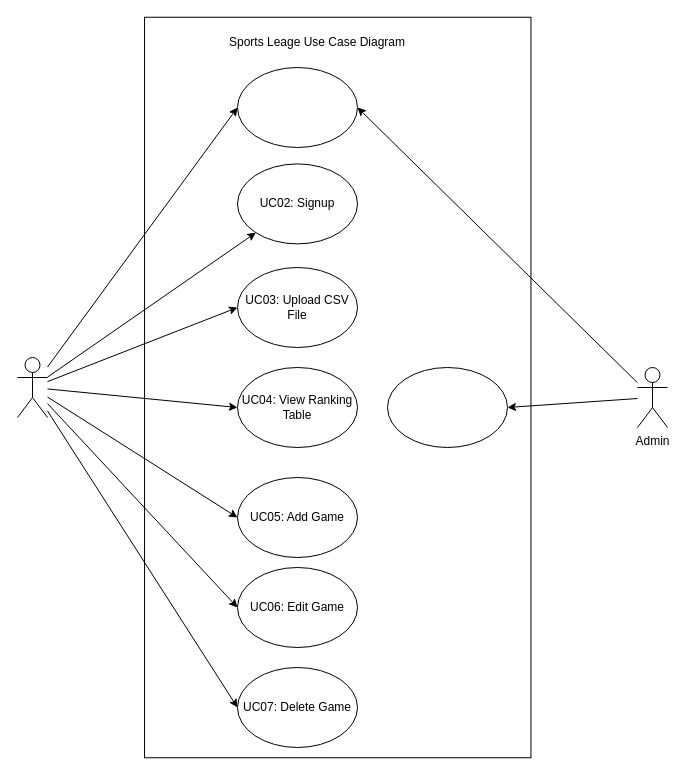
Image size: 687x776. Some labels were removed from this diagram. Each missing label, with the box of its shape:
UC08: Manage Users: (386, 366, 508, 448)
UC:01 Login: (236, 66, 358, 148)
User: (16, 356, 48, 418)
